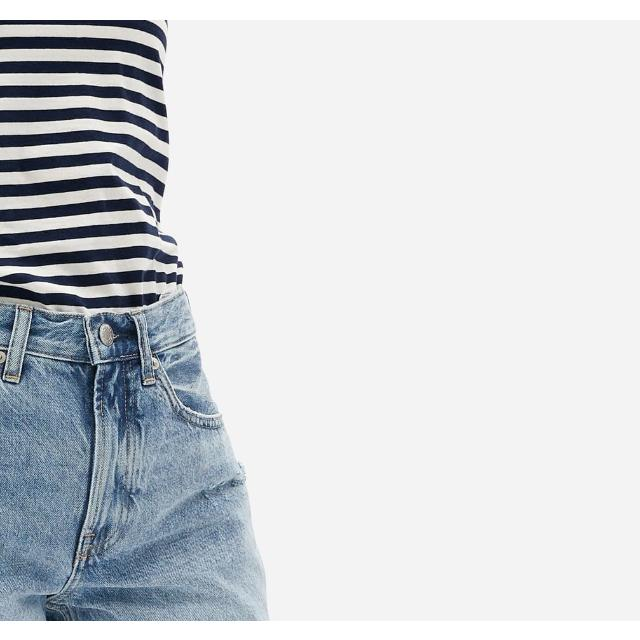denim: (0, 266, 308, 620)
